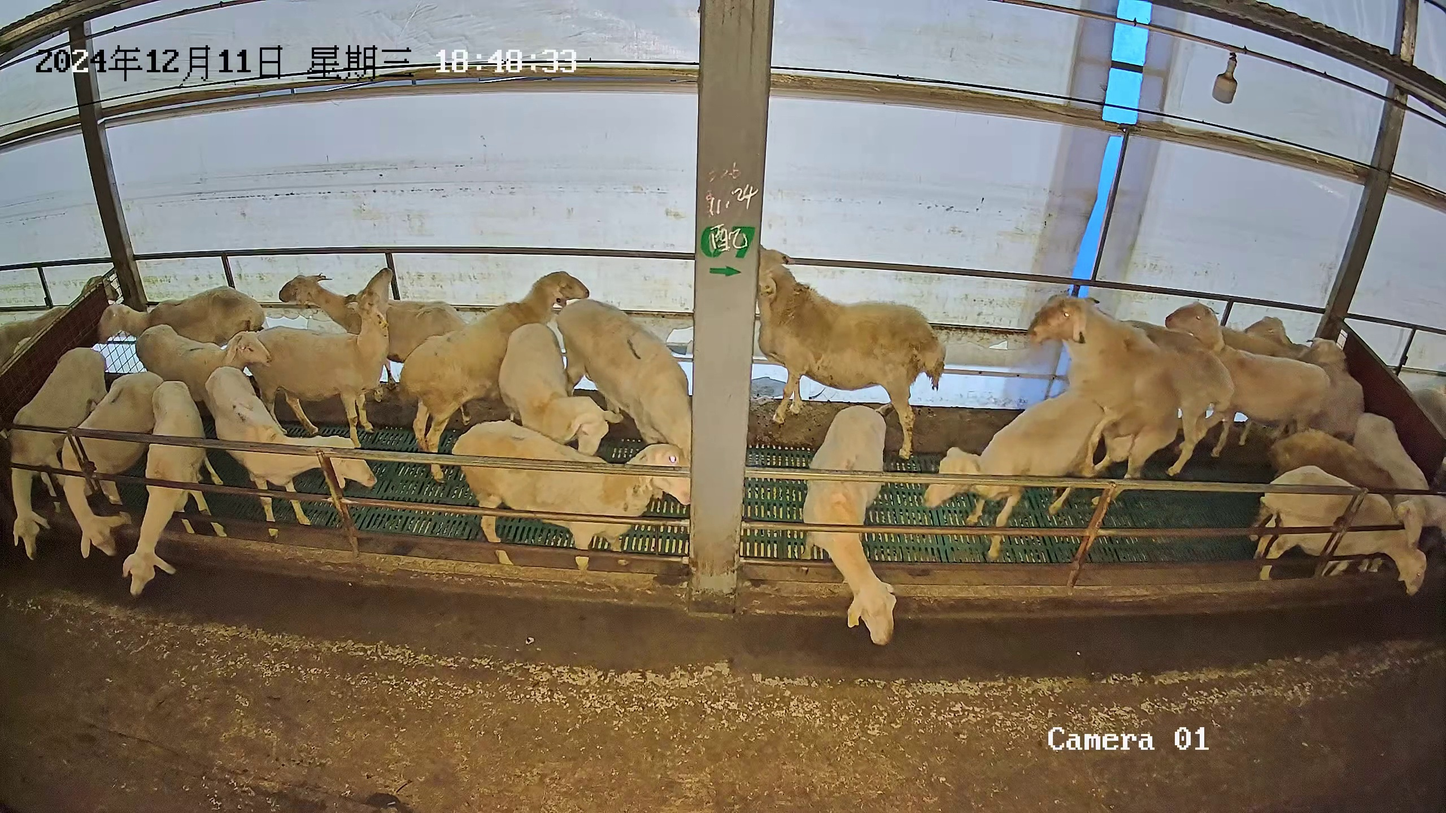Smounting: (914, 292, 1182, 565)
mounted: (919, 389, 1108, 561)
